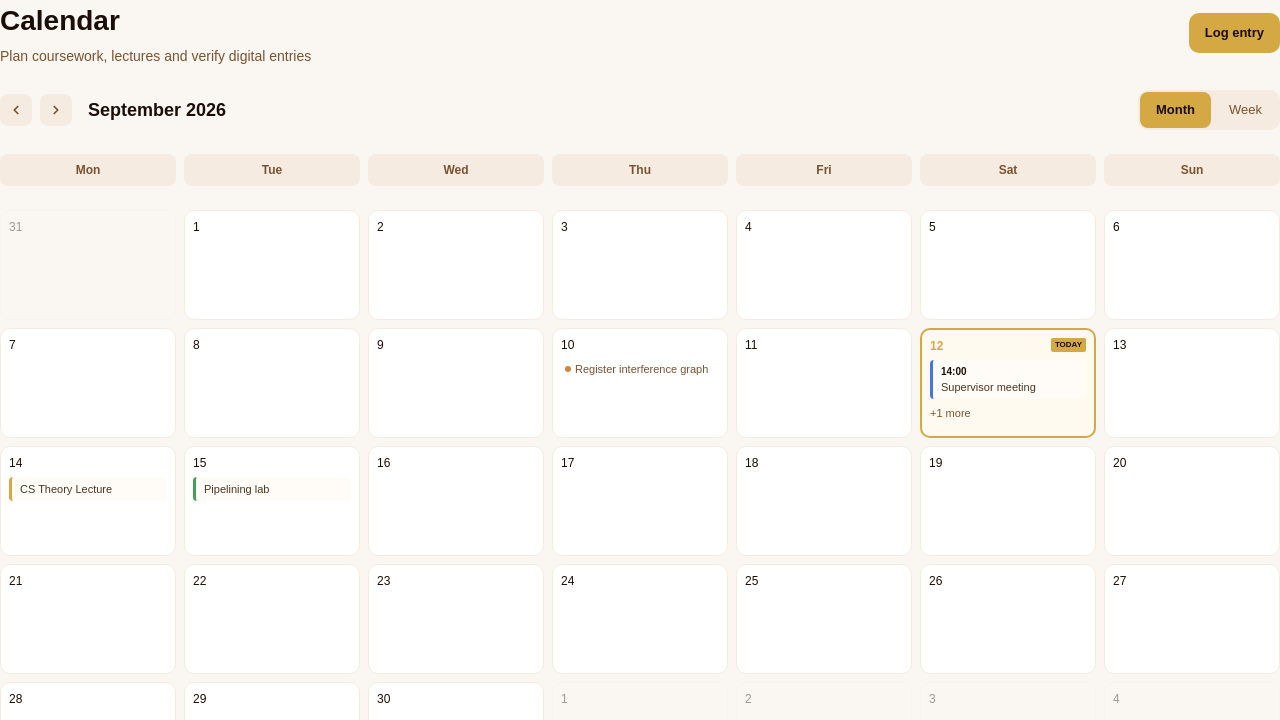
it: CalendarPage › moves between months and into week view
The width and height of the screenshot is (1280, 720).
Expected: the heading "September 2026" is shown, 88,96 -> 226,124
Step 1. Click the button named "Next month" → (56, 110), box 40,94 -> 72,126
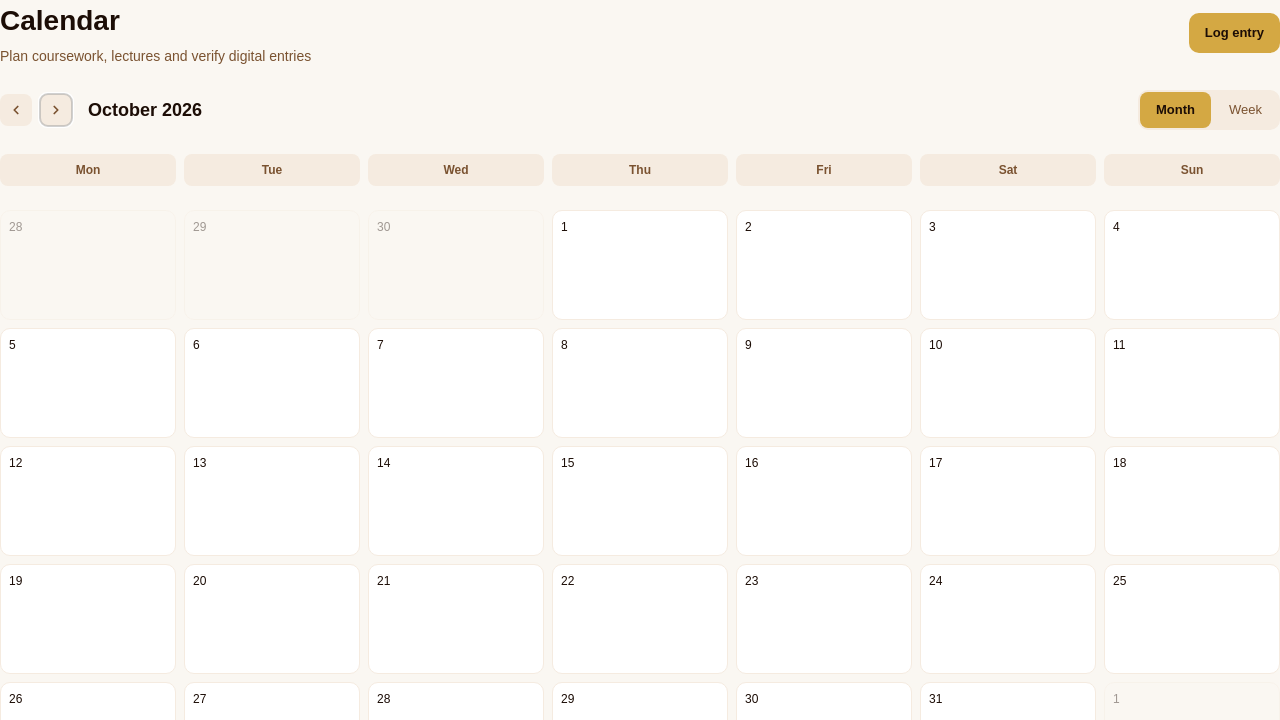
Now the heading "October 2026" is shown, box 88,96 -> 202,124
Step 2. Click the button named "Previous month" → (16, 110), box 0,94 -> 32,126
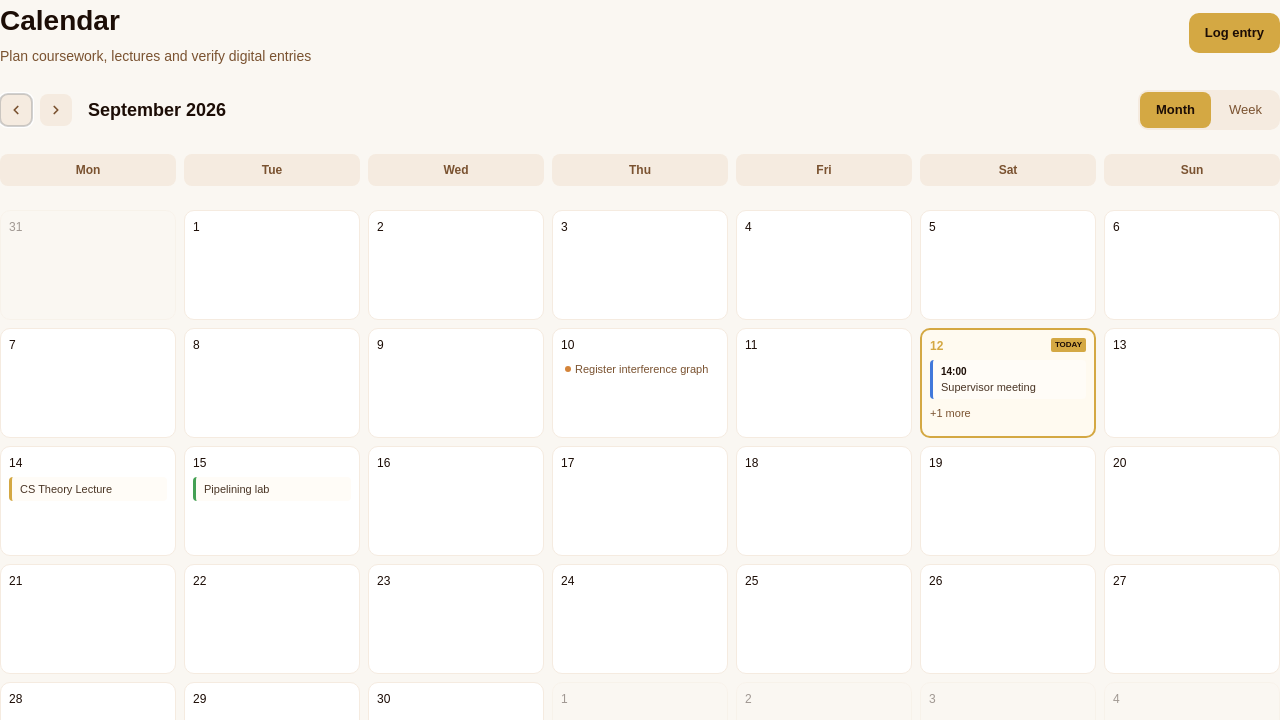
Step 3. Click the button "Week" → (1246, 110), box 1213,92 -> 1278,128
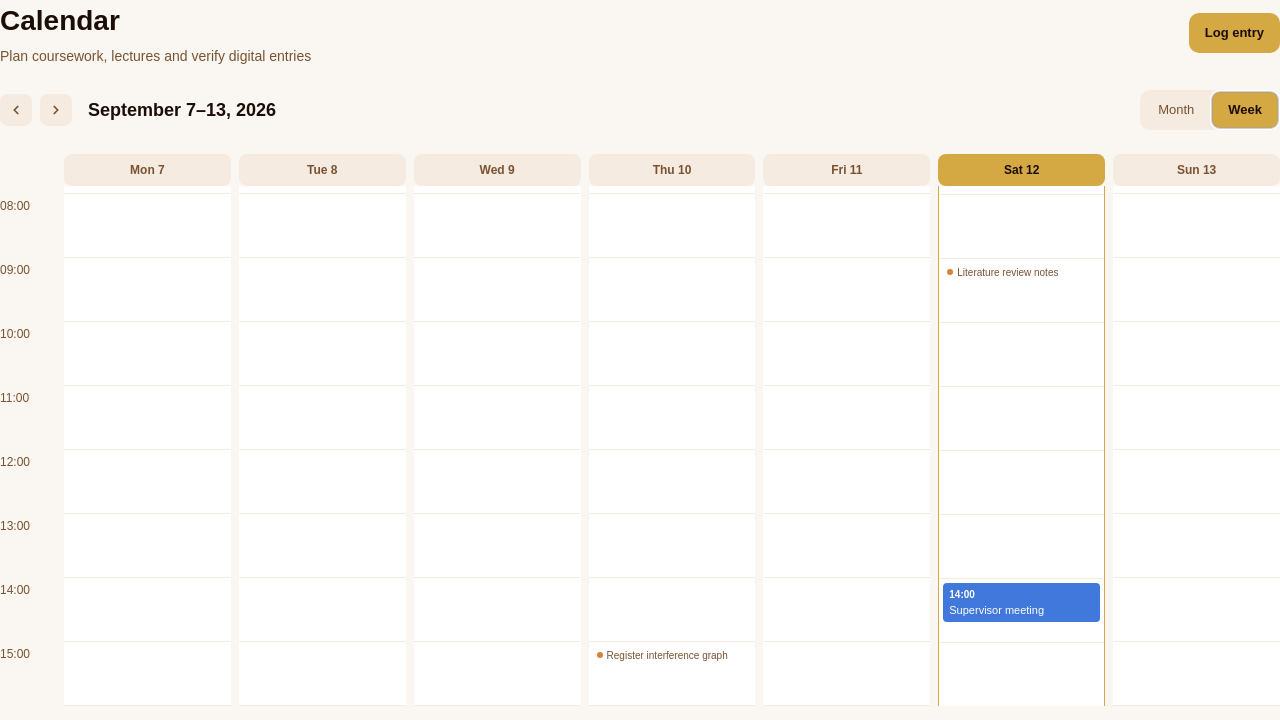
Now the heading "September 7–13, 2026" is shown, box 88,96 -> 276,124
Step 4. Click the button named "Next week" → (56, 110), box 40,94 -> 72,126
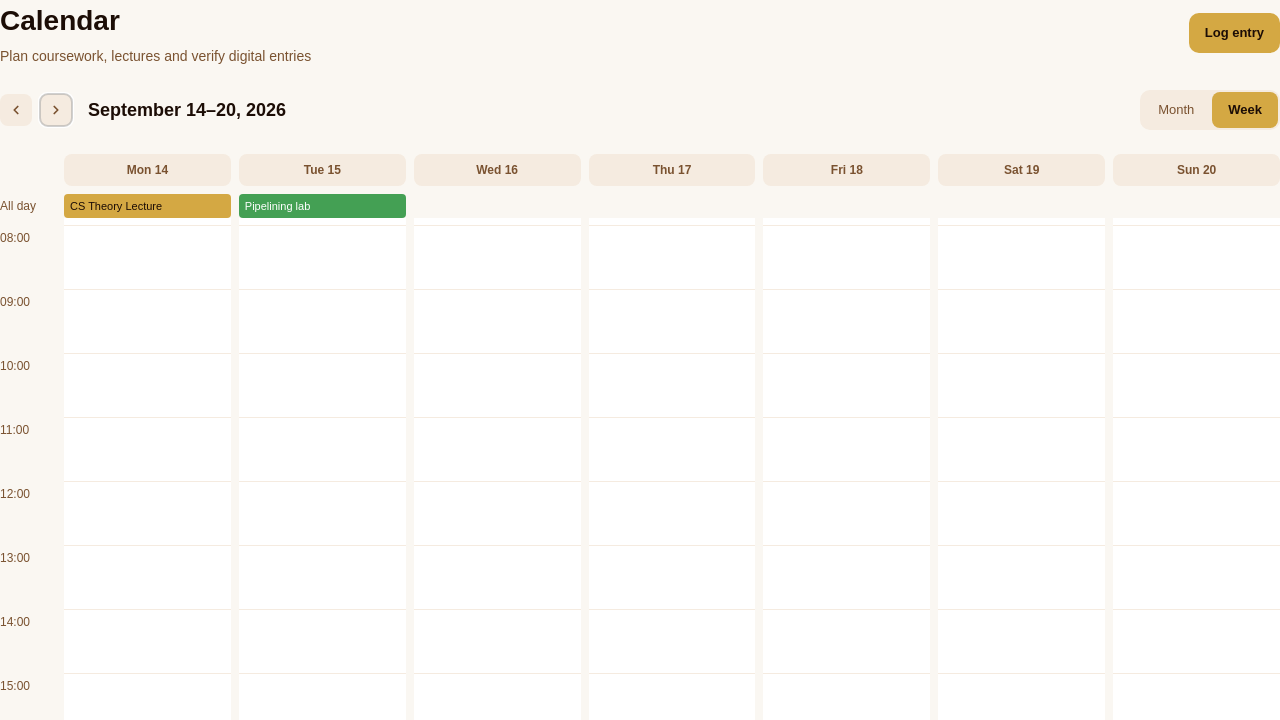
Now the heading "September 14–20, 2026" is shown, box 88,96 -> 286,124
